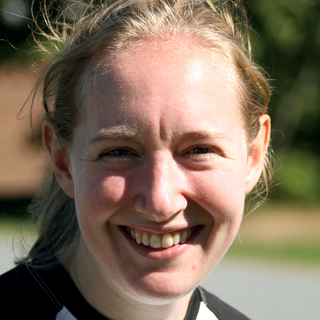eye: (95, 142, 144, 166), (178, 140, 224, 164)
